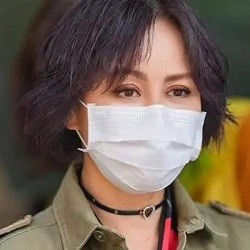mask: (66, 94, 204, 194)
